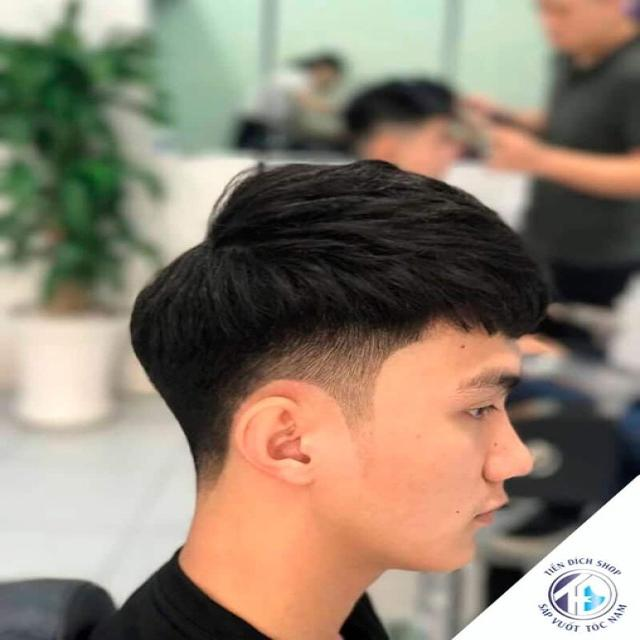Nonhelmet: (123, 154, 554, 577)
